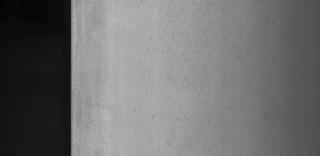silk spot: (136, 10, 210, 110)
